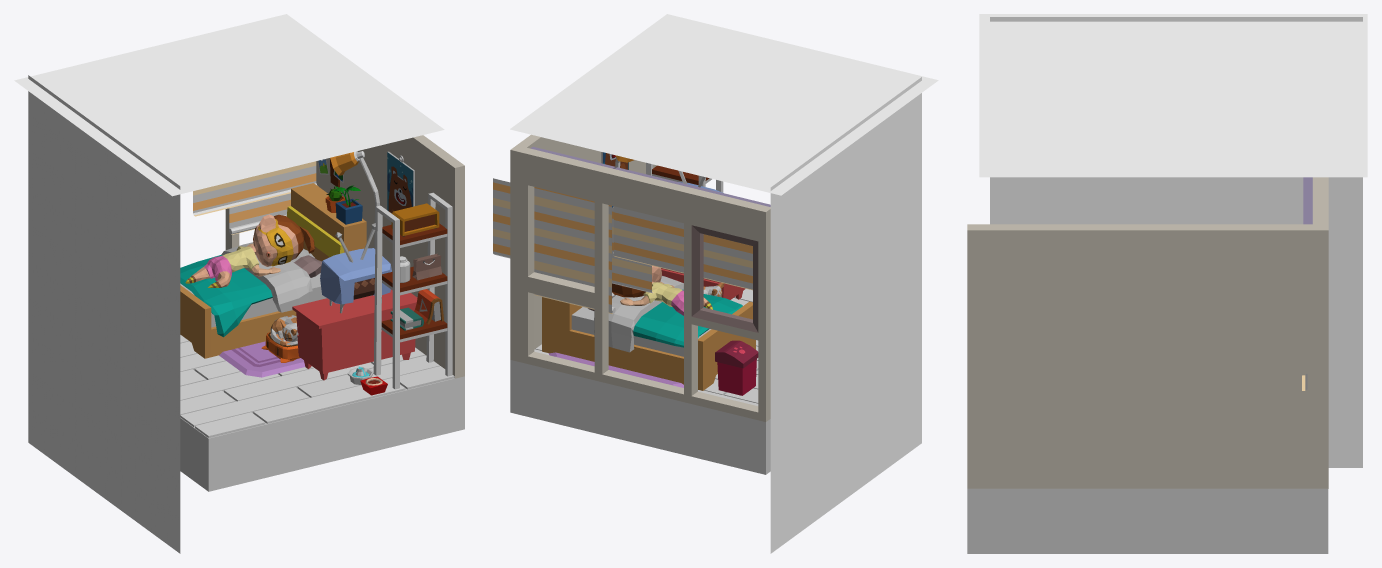
Rendered from 0008_relaxation.fbx.
3 views of the same model, side by side, from view 1: azimuth 30°, elevation 25°; view 2: azimuth 150°, elevation 25°; view 3: azimuth 270°, elevation 25° (orthographic). The views are drawn at different scales.
Parts seen in each view (by area): view 1: Shodow_Plane_TOP (1), Shodow_Plane_TOP, floor, wall, bed_bed, table, bed_blanket, Tile1 (×3), storage, sub_curtain1, tv, Tile3 (×2) (+13 smaller); view 2: Shodow_Plane_TOP (1), Shodow_Plane_TOP, wall, sub_curtain1, floor, bed_bed, bed_blanket, trashcan, body_upper, carpet, table; view 3: wall, Shodow_Plane_TOP, Shodow_Plane_TOP (1), floor, sub_curtain1.
Part boxes in pixels (<box>): Shodow_Plane_TOP (1): <box>28,75,180,553</box>; Shodow_Plane_TOP: <box>14,14,444,196</box>; floor: <box>180,370,464,491</box>; wall: <box>225,135,464,378</box>; bed_bed: <box>180,183,366,358</box>; table: <box>292,289,417,380</box>; bed_blanket: <box>180,242,312,337</box>; Tile1 (×3): <box>224,355,439,423</box>; storage: <box>373,192,452,389</box>; sub_curtain1: <box>193,161,317,234</box>; tv: <box>320,223,391,313</box>; Tile3 (×2): <box>180,372,309,427</box>; Shodow_Plane_TOP (1): <box>770,77,921,553</box>; Shodow_Plane_TOP: <box>510,14,938,195</box>; wall: <box>510,134,770,421</box>; sub_curtain1: <box>493,146,770,314</box>; floor: <box>510,360,770,474</box>; bed_bed: <box>542,297,755,390</box>; bed_blanket: <box>594,276,742,352</box>; trashcan: <box>715,340,758,395</box>; body_upper: <box>620,281,682,306</box>; carpet: <box>548,352,683,387</box>; table: <box>661,268,745,299</box>; wall: <box>967,177,1328,488</box>; Shodow_Plane_TOP: <box>979,14,1367,177</box>; Shodow_Plane_TOP (1): <box>990,17,1362,467</box>; floor: <box>967,488,1328,553</box>; sub_curtain1: <box>1302,177,1312,390</box>.
Size of the model in its own units: 7.74 by 8.67 by 6.97.
